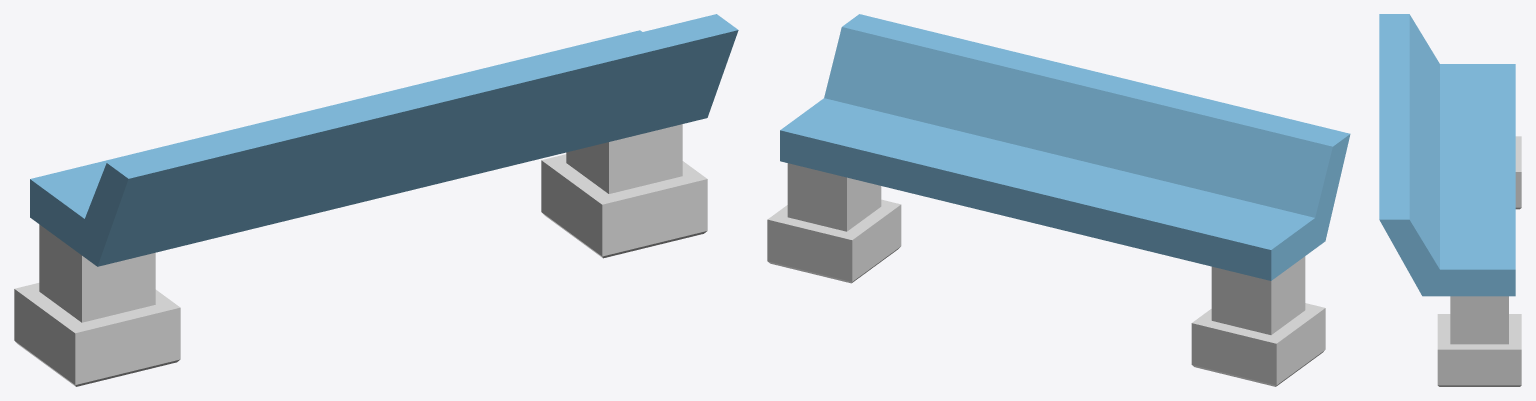
Rendered from Bench_simple.FBX.
3 views of the same model, side by side, from view 1: azimuth 30°, elevation 25°; view 2: azimuth 150°, elevation 25°; view 3: azimuth 270°, elevation 25° (orthographic). The views are drawn at different scales.
Visible parts, largest first — view 1: Bench_simple; view 2: Bench_simple; view 3: Bench_simple.
Boxes of the visible parts, left/top/right/bottom form: Bench_simple: left=14, top=14, right=738, bottom=386; Bench_simple: left=767, top=14, right=1350, bottom=386; Bench_simple: left=1379, top=14, right=1521, bottom=386.
Size of the model in its own units: 600 by 169 by 216.
